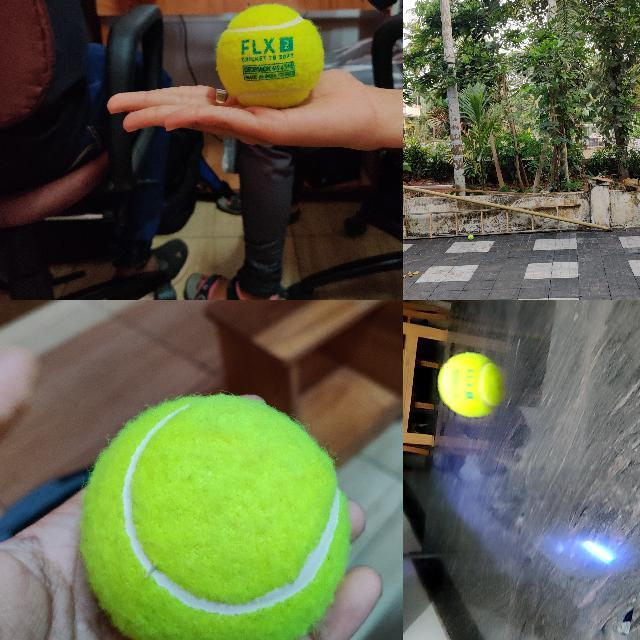tennis-ball: (82, 395, 351, 639), (216, 4, 324, 104), (436, 352, 506, 418), (467, 234, 473, 240)
